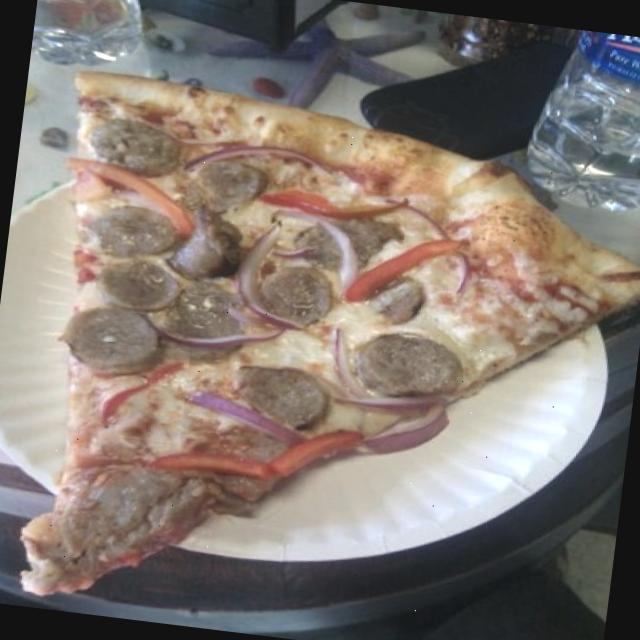Bell Pepper: (64, 149, 218, 236), (86, 340, 190, 446), (342, 222, 457, 316), (153, 429, 310, 494), (261, 178, 408, 240), (272, 404, 379, 476)
pizza: (23, 75, 640, 594)
